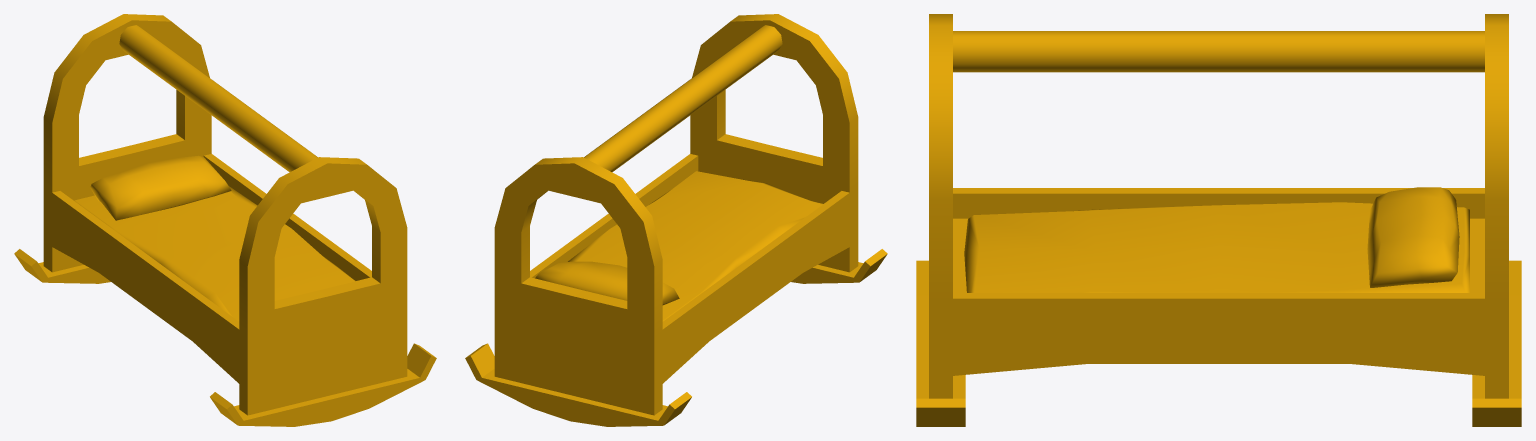
The model's file is besyk.fbx.
3 views of the same model, side by side, from view 1: azimuth 30°, elevation 25°; view 2: azimuth 150°, elevation 25°; view 3: azimuth 270°, elevation 25° (orthographic). The views are drawn at different scales.
Visible parts, largest first — view 1: pCube171; view 2: pCube171; view 3: pCube171.
Boxes of the visible parts, <box> form: pCube171: <box>14,14,436,426</box>; pCube171: <box>465,14,887,426</box>; pCube171: <box>916,14,1521,426</box>.
Bounding box in the file's own units: 1.58 × 1.83 × 2.77.
